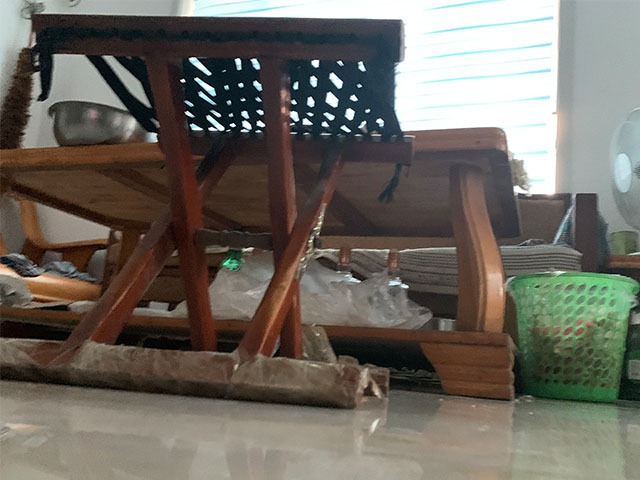stool: (1, 13, 416, 411)
table: (1, 126, 527, 407)
trashcan: (504, 270, 640, 404)
